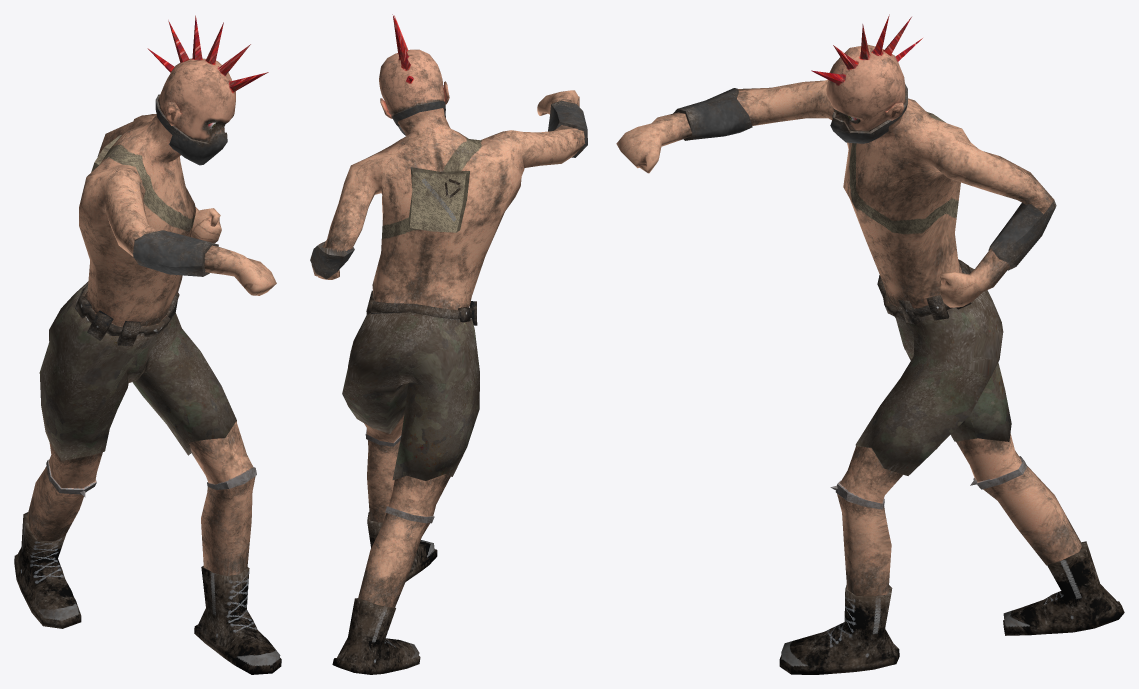
File: Anim_ataque_d2_npc2.0023.obj
3 renders of one model, left to right at view 1: azimuth 30°, elevation 25°; view 2: azimuth 150°, elevation 25°; view 3: azimuth 270°, elevation 25°, orthographic. The views are drawn at different scales.
Parts seen in each view (by area): view 1: polySurface1; view 2: polySurface1; view 3: polySurface1.
Boxes of the visible parts, x1,y1,x2,y2 form: polySurface1: (14, 15, 281, 674); polySurface1: (310, 14, 587, 674); polySurface1: (616, 14, 1124, 674).
Bounding box in the file's own units: 2.99 × 9.5 × 6.71.
